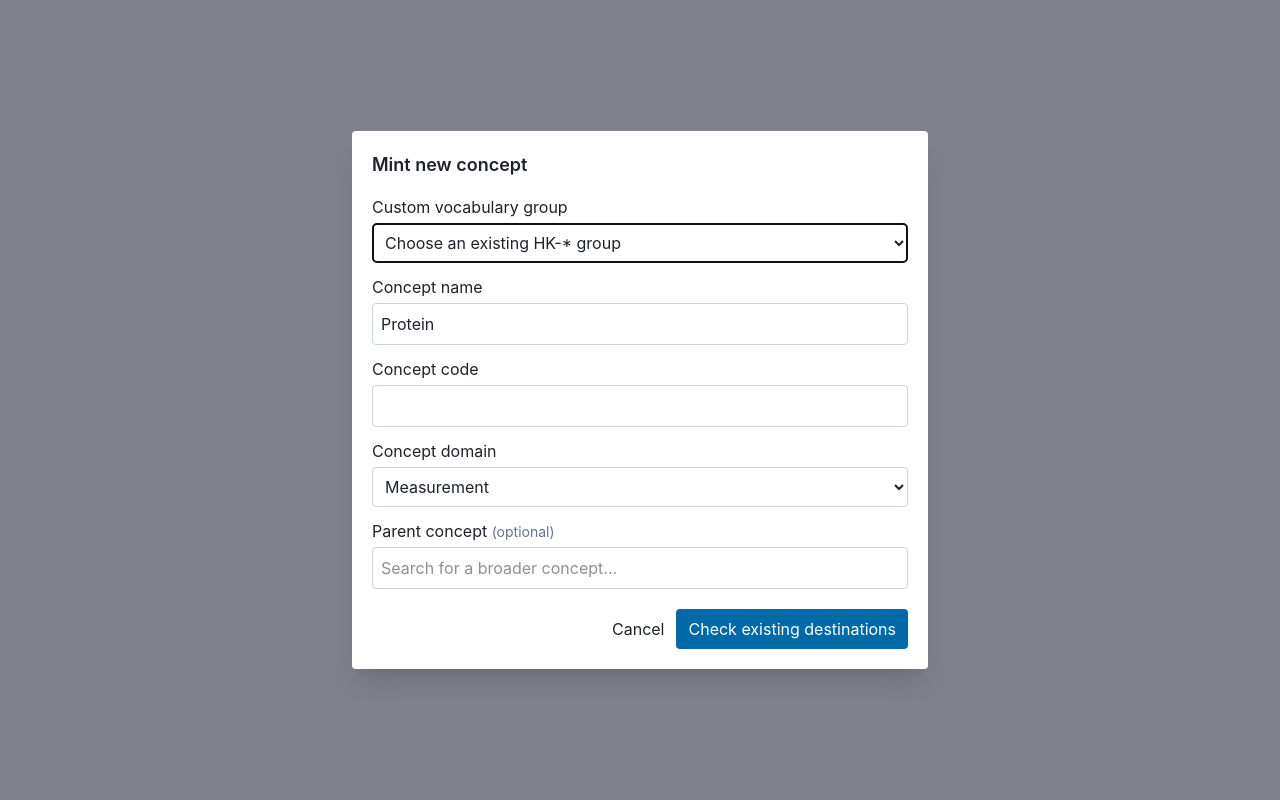
mint destination parent concept › clears the selected parent when clear button is clicked
Select "HK-Labs — Labs" in the dropdown labelled "Custom vocabulary group" at [640, 243], box top-left (372, 223), bottom-right (908, 263)
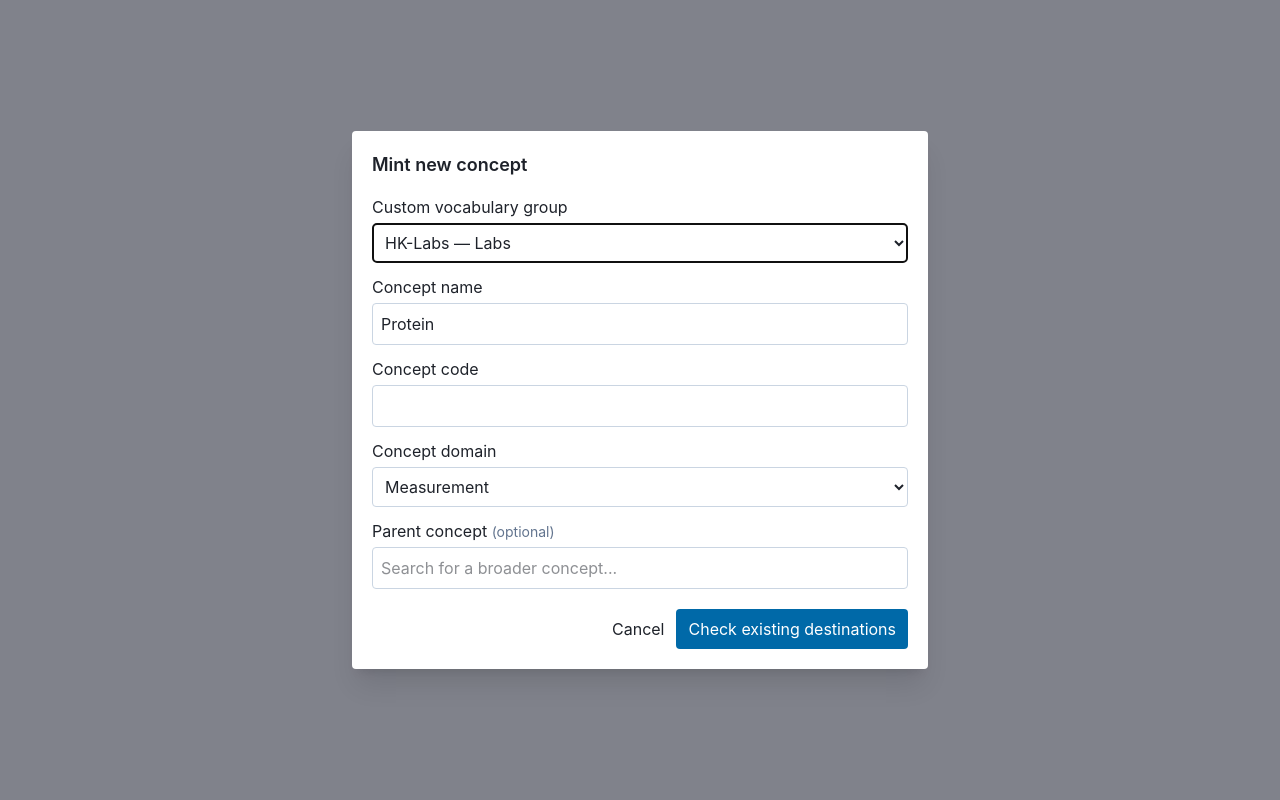
Type "my-protein" into the field labelled "Concept code".
click(640, 406); type("my-protein")  # box top-left (372, 385), bottom-right (908, 427)
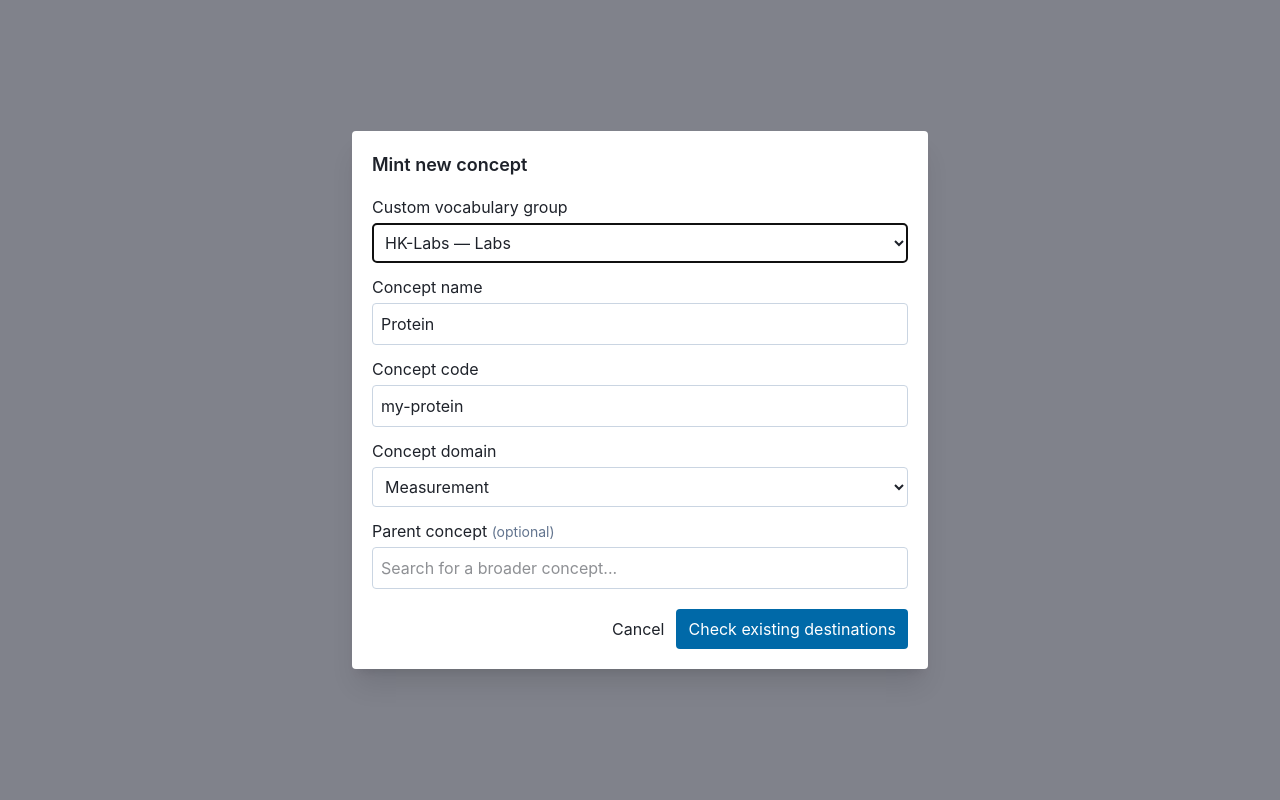
Type "Neoplasm" into the field with placeholder "Search for a broader concept...".
click(640, 568); type("Neoplasm")  # box top-left (372, 547), bottom-right (908, 589)
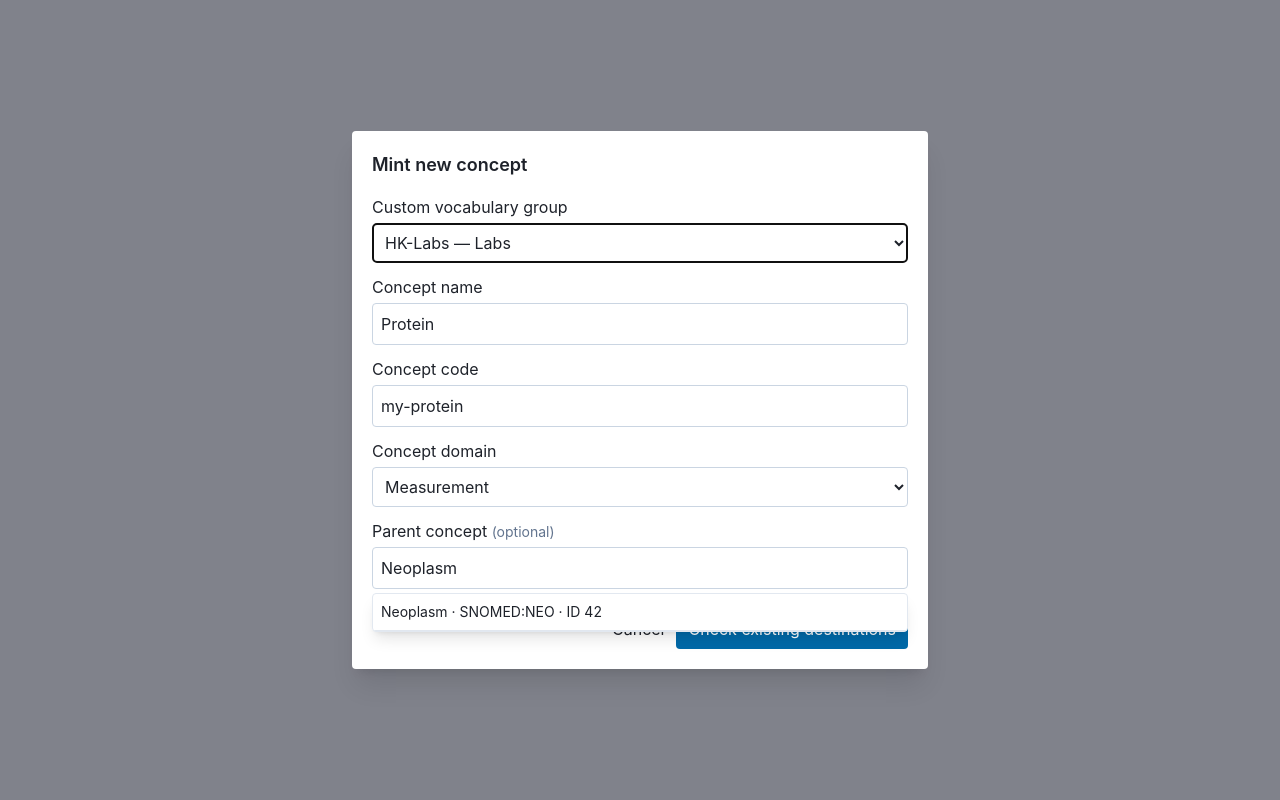
Click the button "Neoplasm · SNOMED:NEO · ID 42".
click(414, 612)  # box top-left (373, 594), bottom-right (907, 631)
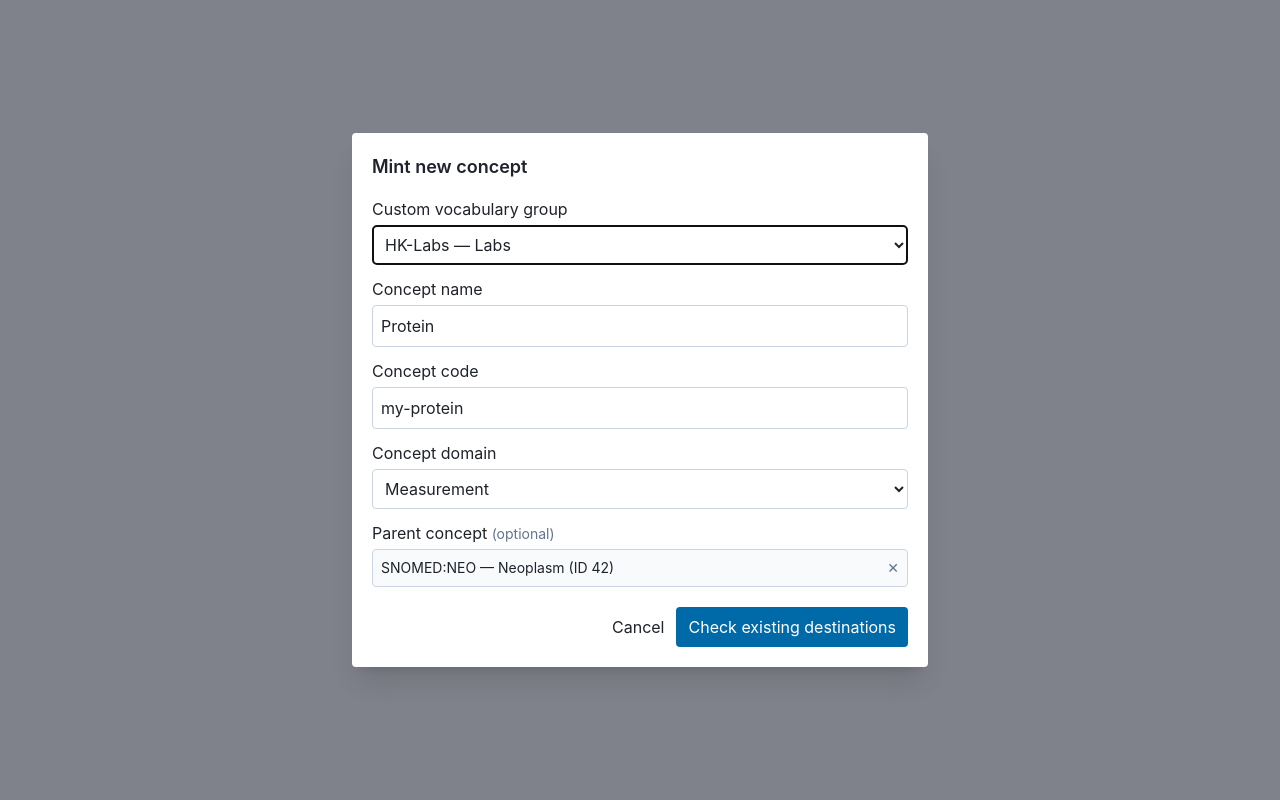
Click the button named "Clear parent concept".
click(893, 568)  # box top-left (887, 558), bottom-right (899, 578)
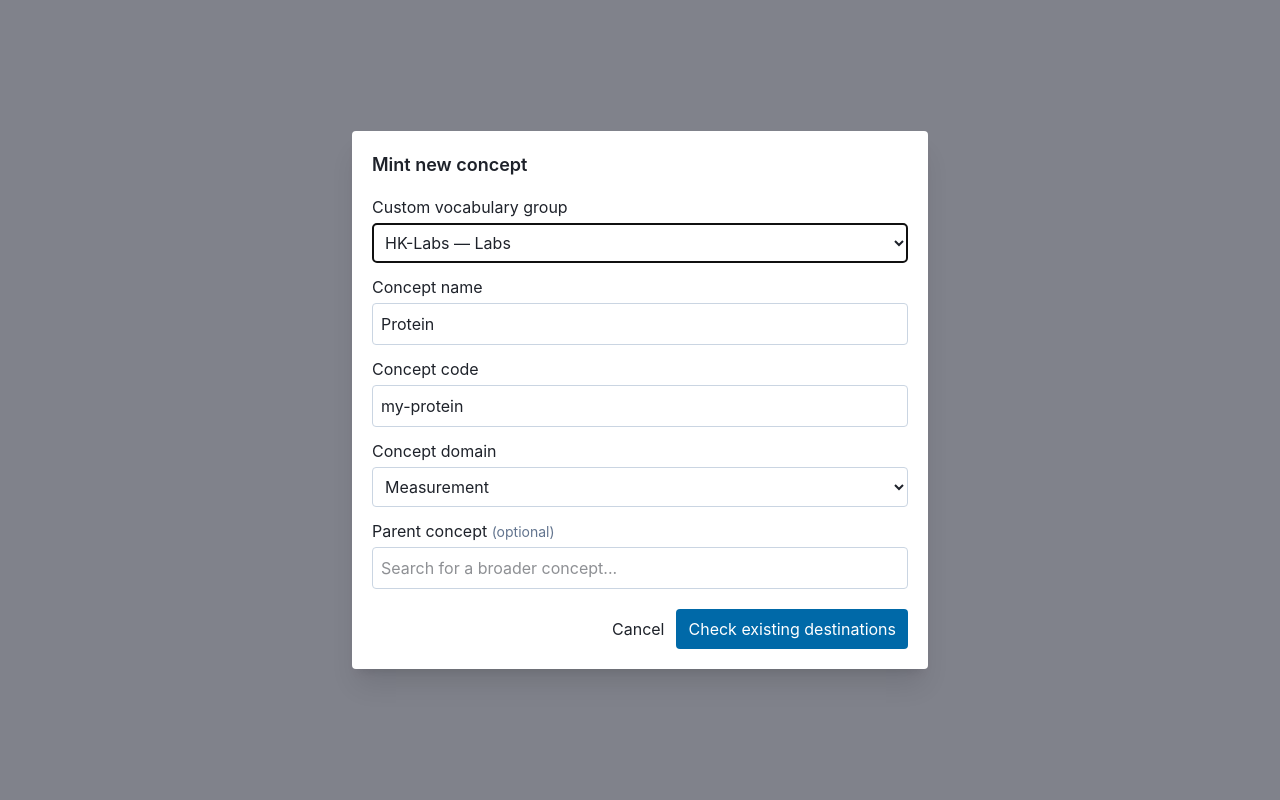
Check: the field with placeholder "Search for a broader concept..." is shown, box top-left (372, 547), bottom-right (908, 589)
Check: the text "SNOMED:NEO — Neoplasm" is gone
